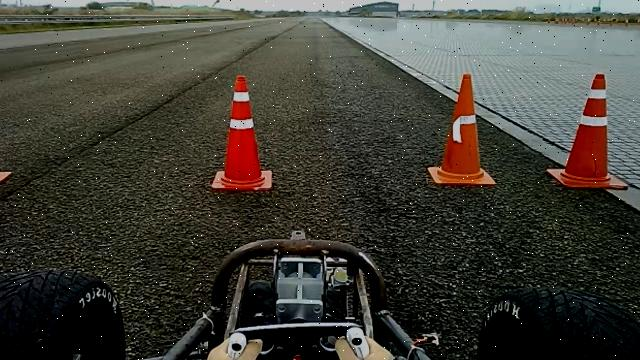red cone: (546, 72, 629, 190), (428, 72, 497, 187), (211, 74, 274, 192)
